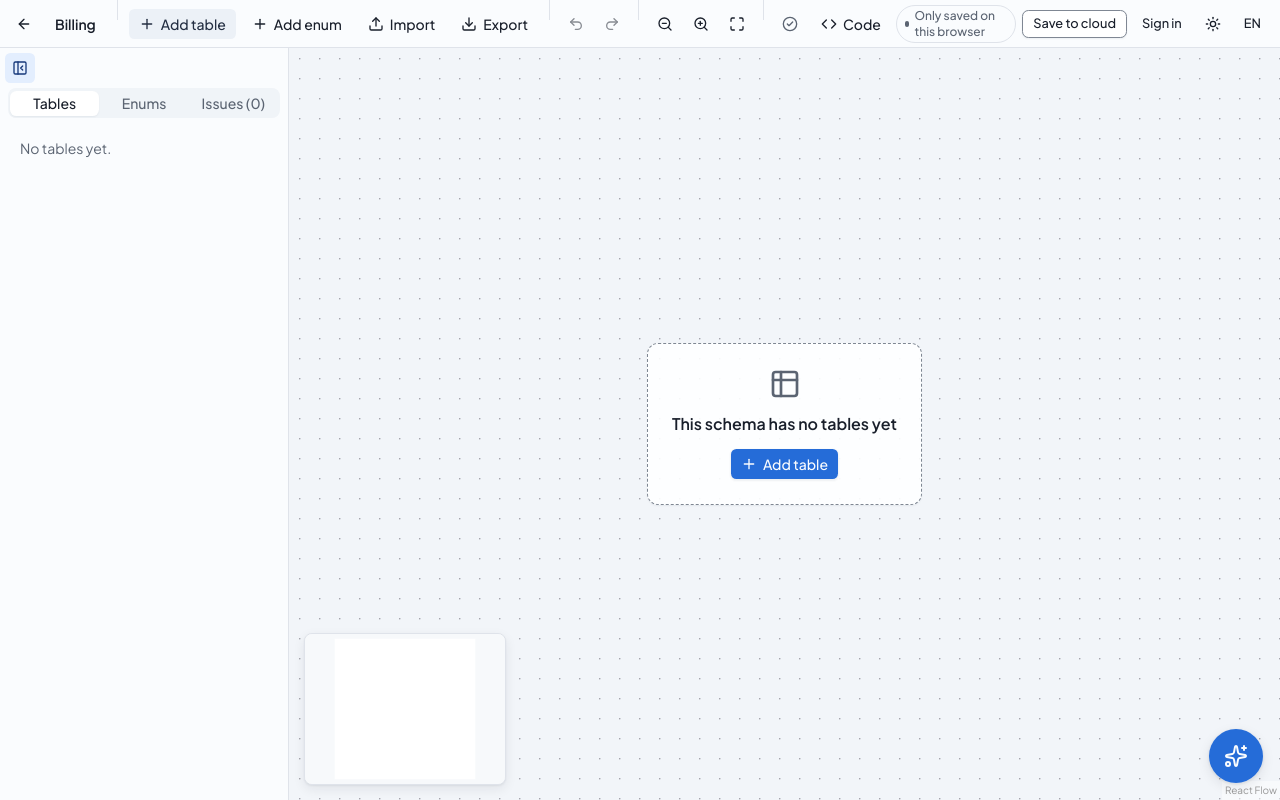
it: EditorWorkspace › in the cloud › opens the sign-in prompt from Save to cloud when signed out
The image size is (1280, 800).
Click the button "Save to cloud".
click(1075, 24)  # box [1022, 10, 1127, 38]
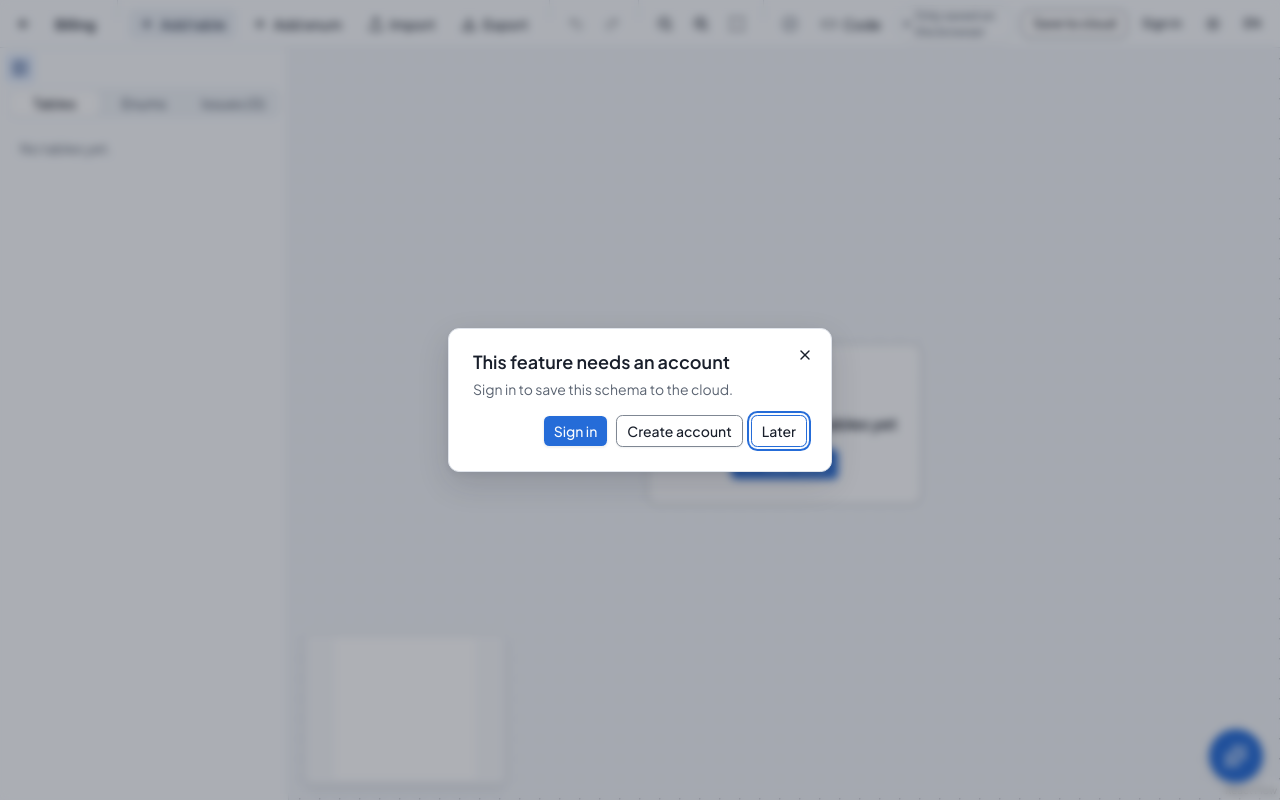
Now the dialog "This feature needs an account" is shown, box [448, 328, 832, 472]
